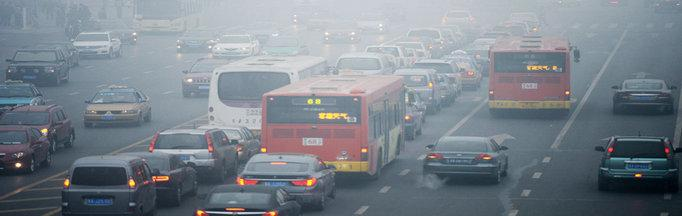bus: (260, 74, 416, 181), (207, 54, 335, 155), (488, 34, 580, 116), (131, 1, 202, 35)
car: (232, 153, 337, 211), (61, 155, 160, 216), (147, 124, 239, 183), (595, 130, 681, 189), (121, 153, 199, 208), (422, 135, 509, 184), (1, 104, 76, 155), (192, 184, 303, 216), (332, 54, 395, 103), (83, 83, 152, 127), (4, 47, 70, 86), (194, 125, 261, 163), (380, 87, 428, 140), (610, 77, 678, 114), (1, 125, 52, 174), (391, 70, 443, 115), (182, 57, 238, 97), (1, 79, 47, 126), (411, 59, 463, 99), (435, 50, 483, 92), (69, 30, 122, 61), (412, 71, 457, 106), (364, 46, 406, 82), (255, 36, 310, 63), (30, 41, 80, 69), (406, 29, 444, 63), (212, 32, 261, 58), (395, 41, 433, 74), (395, 35, 434, 66), (92, 20, 138, 46), (176, 27, 220, 52), (323, 20, 364, 44), (441, 9, 474, 38), (356, 11, 392, 34), (388, 47, 419, 73), (428, 27, 459, 53)
